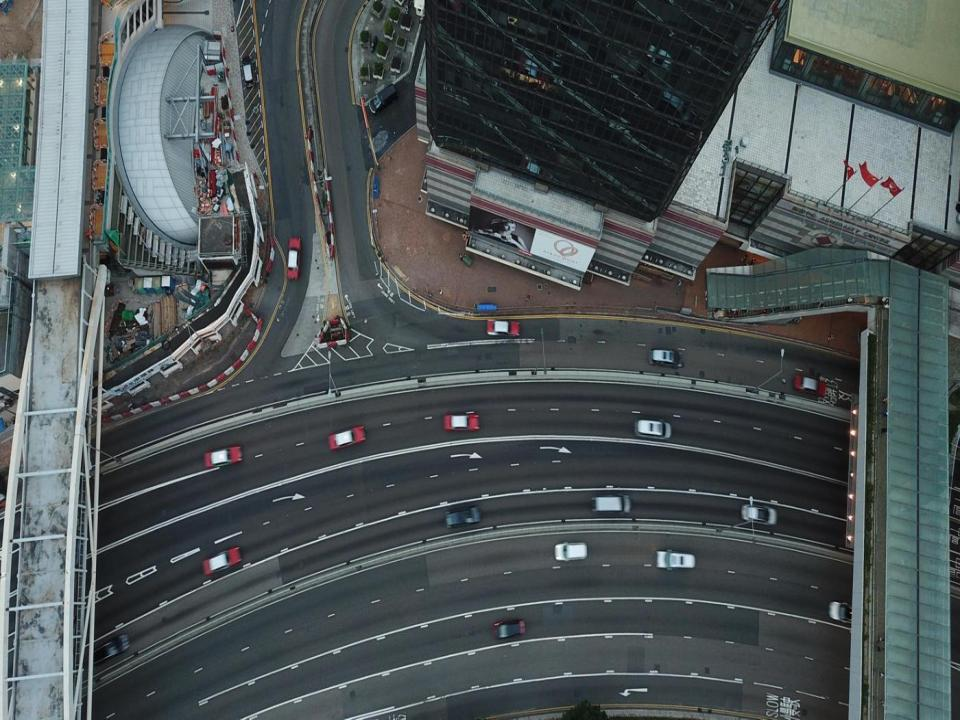car: (202, 548, 242, 576), (327, 426, 365, 450), (741, 502, 778, 526), (202, 446, 244, 467), (794, 371, 826, 397), (552, 540, 588, 561), (286, 234, 302, 281), (830, 600, 862, 622), (485, 320, 520, 340), (442, 414, 480, 432), (493, 620, 527, 638), (241, 53, 255, 88)
van: (83, 636, 131, 665), (632, 414, 674, 439), (656, 547, 696, 571), (367, 85, 398, 114), (647, 346, 685, 369), (589, 494, 632, 512), (445, 506, 481, 526)
